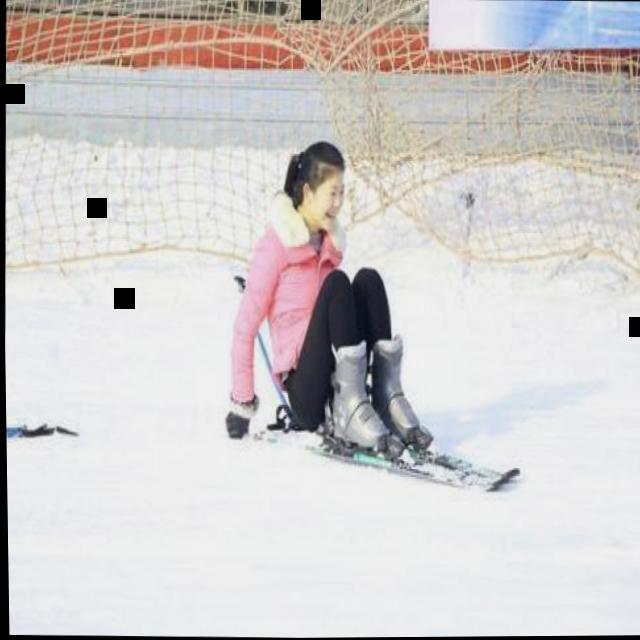Fall-Detected: (210, 124, 446, 467)
